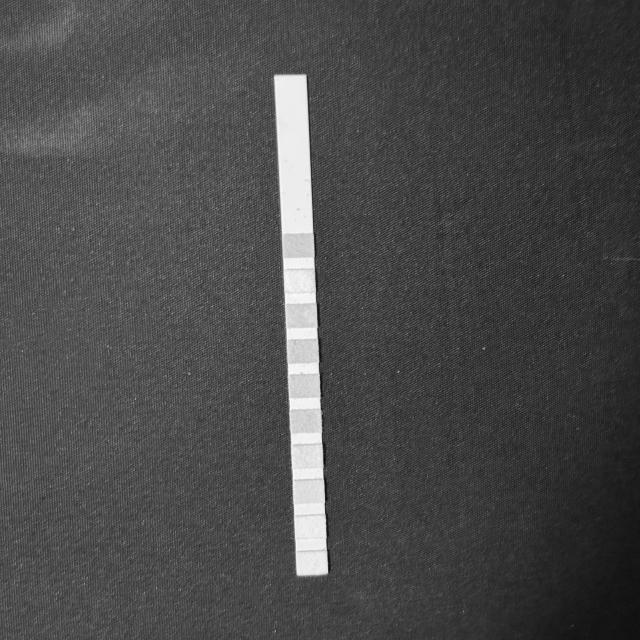Bilirubin: (284, 270, 314, 292)
Blood: (289, 375, 320, 397)
Glucose: (282, 234, 314, 257)
Ketone: (286, 304, 317, 327)
Leukocytes: (297, 552, 327, 574)
Nitrite: (295, 516, 325, 538)
Protein: (292, 446, 322, 468)
SpGravity: (288, 340, 318, 363)
Urobilinogen: (293, 481, 324, 502)
background: (0, 0, 640, 640)
pH: (291, 411, 321, 432)
strip: (274, 75, 328, 575)
